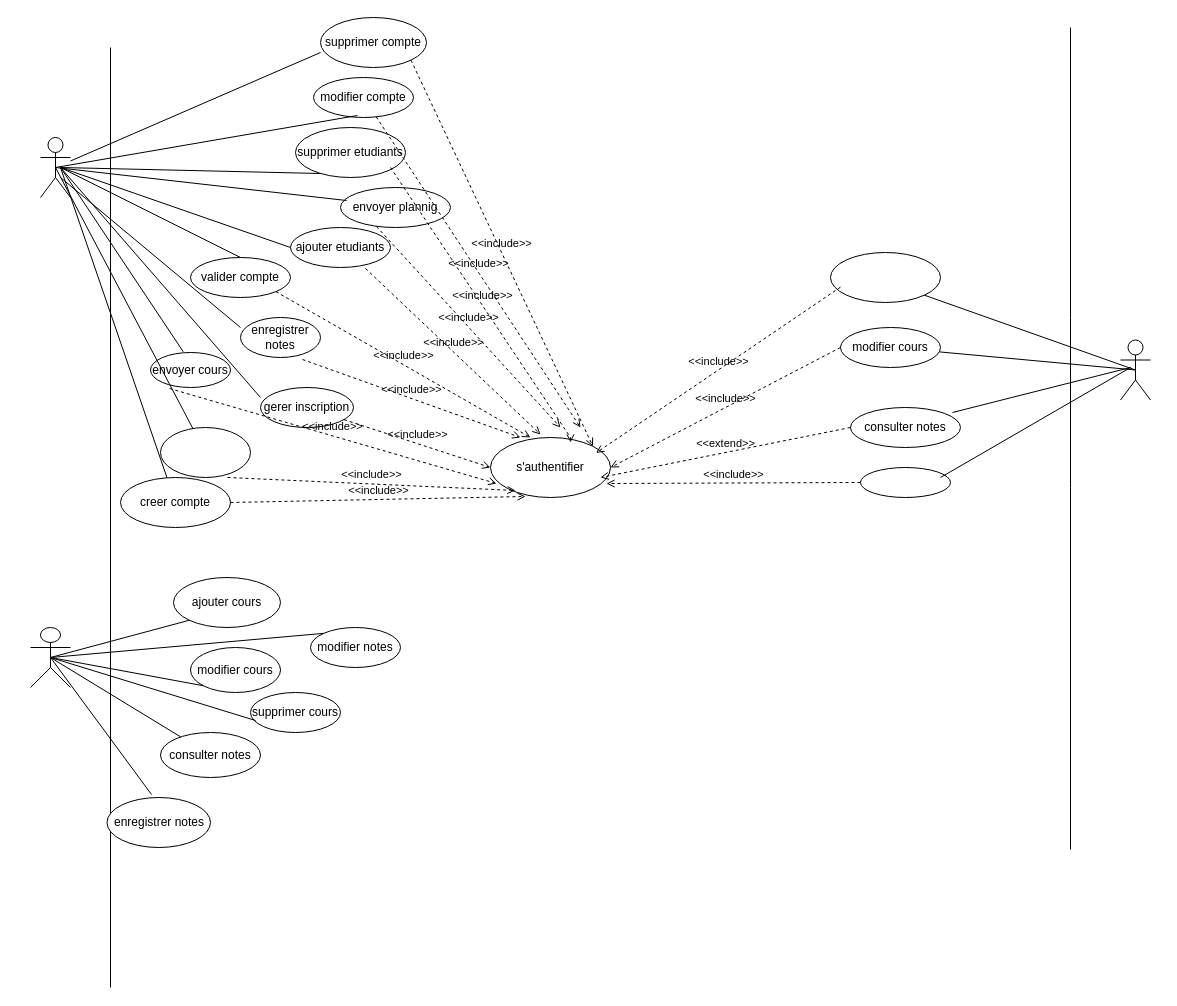
Some shapes in this 1177 by 1006 pixel diagram are drawn without their labels. The centre of each missing label's shape, as x and y in pixels:
administrateur: (55,167)
Etudiants: (1135,369)
formateur: (50,657)
gerer fichier pdf: (205,452)
recevoir cours: (905,482)
s'inscrire: (885,277)
